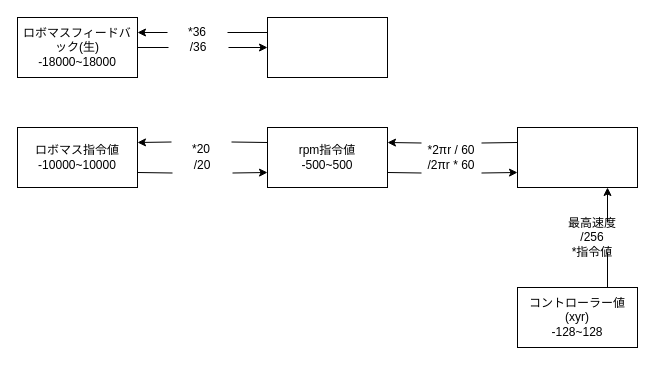
Image size: 655x365. Some labels were removed from this diagram. Here are the shapes that lost their labels. From the top down, the box of each, then its label:
(266, 16, 388, 78): ロボマスフィードバック(rpm) -500~500
(516, 126, 638, 188): 速度指令値 m/s
